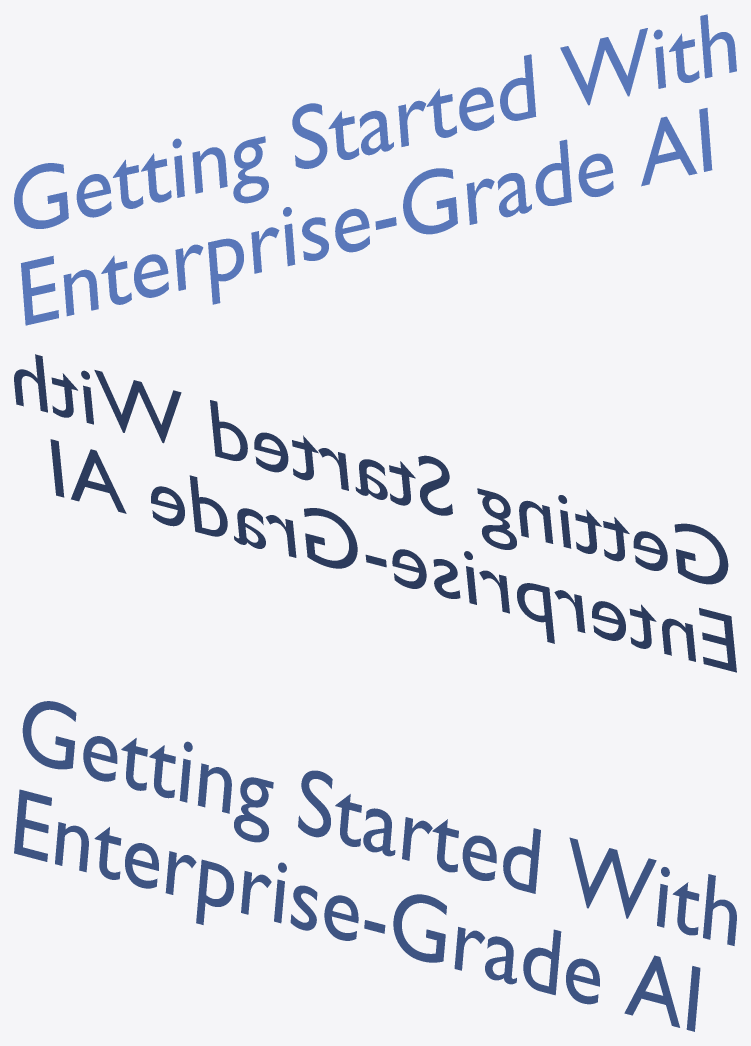
File: GettingStartedWEnterpriseGradeAI.glb
The picture shows the model from 3 angles, top to bottom: view 1: azimuth 30°, elevation 25°; view 2: azimuth 150°, elevation 25°; view 3: azimuth 330°, elevation 25°; orthographic projection. The views are drawn at different scales.
Parts seen in each view (by area): view 1: Getting Started With Enterprise-Grade AI; view 2: Getting Started With Enterprise-Grade AI; view 3: Getting Started With Enterprise-Grade AI.
Boxes of the visible parts, bbox=[...] form: Getting Started With Enterprise-Grade AI: bbox=[14, 14, 736, 325]; Getting Started With Enterprise-Grade AI: bbox=[14, 354, 736, 672]; Getting Started With Enterprise-Grade AI: bbox=[14, 701, 736, 1031].
Size of the model in its own units: 8.5 by 1.9 by 0.4981.
